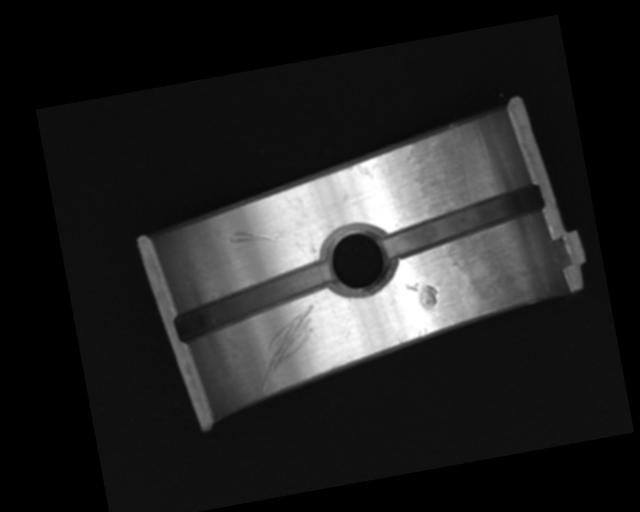bruise: (405, 278, 441, 313)
gap: (168, 260, 338, 342), (379, 183, 547, 256)
hole: (318, 217, 399, 303)
nick: (248, 302, 325, 390), (227, 222, 282, 251)
